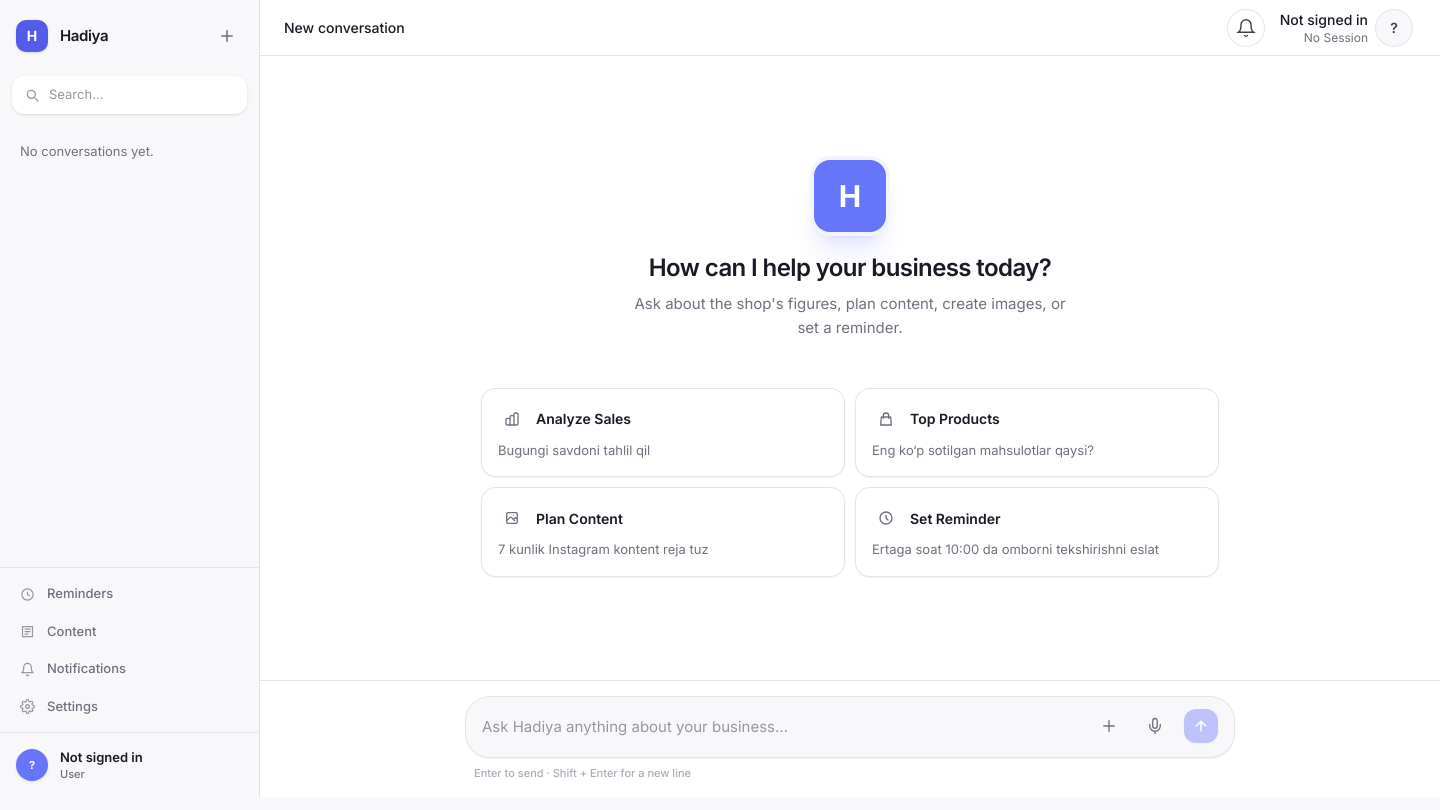
a new conversation › puts a suggestion in the composer so it can still be edited
Click the button "Analyze Sales Bugungi savdoni tahlil qil": (584, 419) [482,389,844,476]
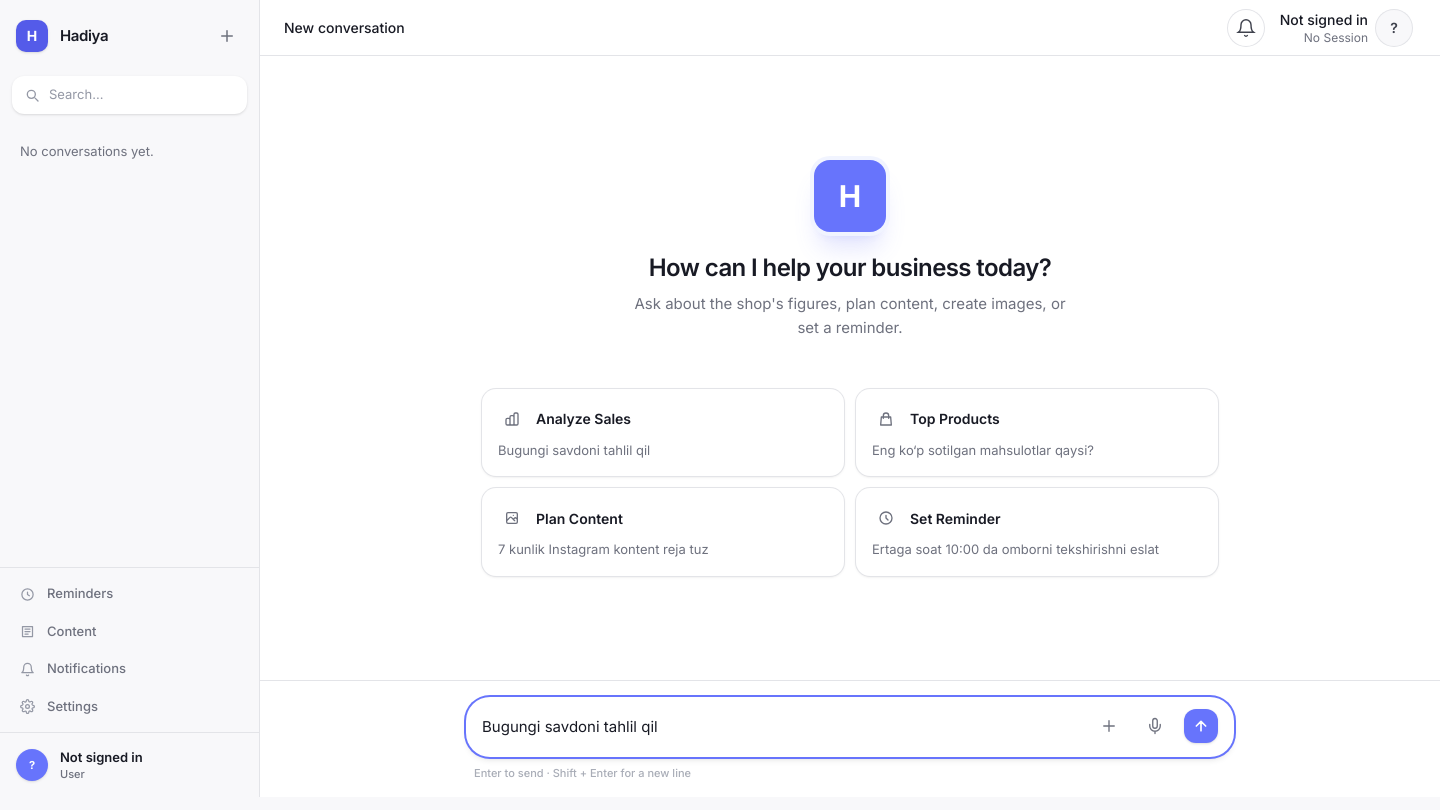
Expected: the text box holds "Bugungi savdoni tahlil qil", [482,705,1080,749]
